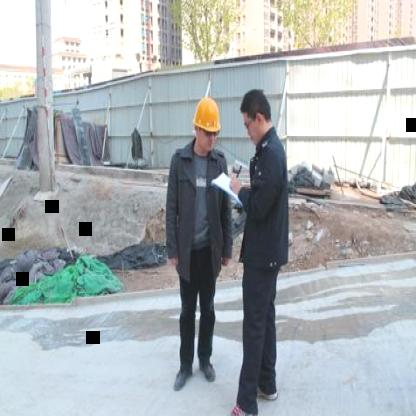helmet: (188, 92, 224, 158)
